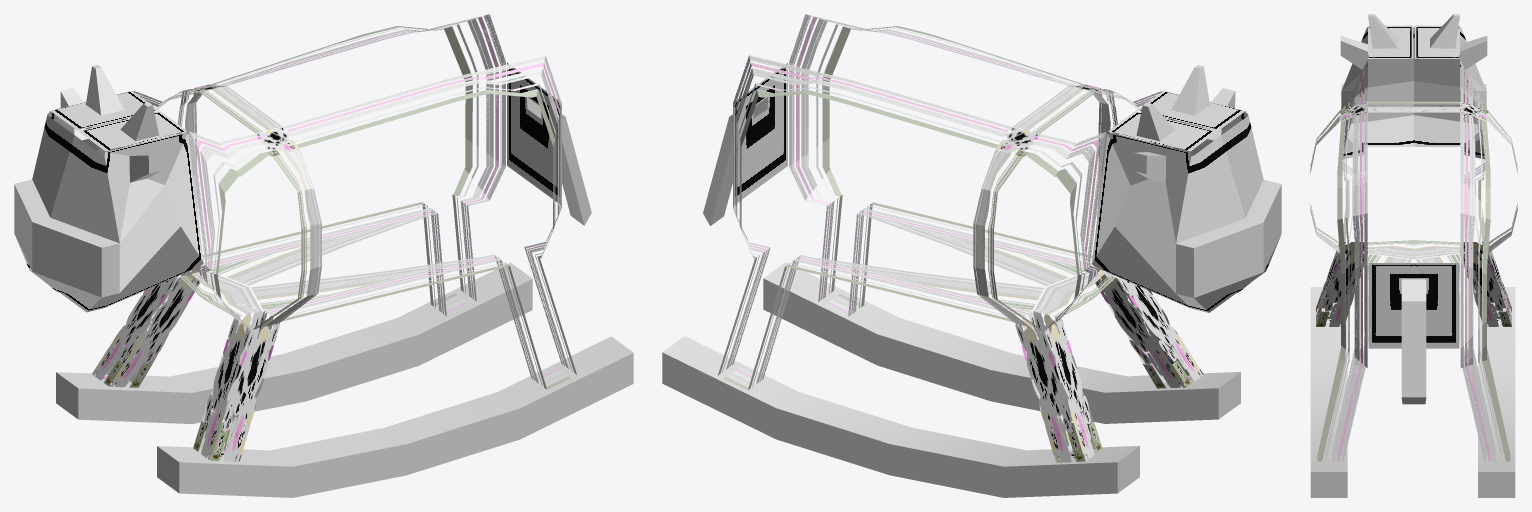
The model's file is vacaT.FBX.
3 renders of one model, left to right at view 1: azimuth 30°, elevation 25°; view 2: azimuth 150°, elevation 25°; view 3: azimuth 270°, elevation 25°, orthographic. The views are drawn at different scales.
Visible parts, largest first — view 1: Box002, Box003; view 2: Box002, Box003; view 3: Box002, Box003.
Part boxes in pixels (<box>): Box002: <box>14,14,591,461</box>; Box003: <box>56,262,633,497</box>; Box002: <box>703,14,1281,462</box>; Box003: <box>662,262,1240,497</box>; Box002: <box>1310,14,1517,461</box>; Box003: <box>1310,287,1515,497</box>.
Bounding box in the file's own units: 5.59 × 3.86 × 2.19.
1 material, 1 textured.
